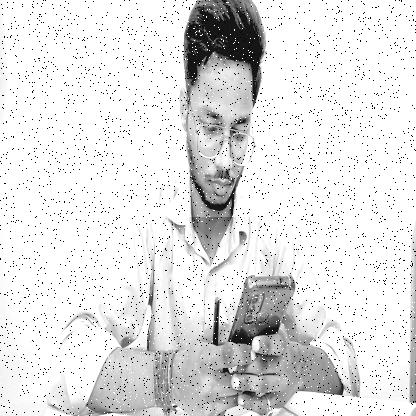Distracted: (179, 0, 265, 217)
